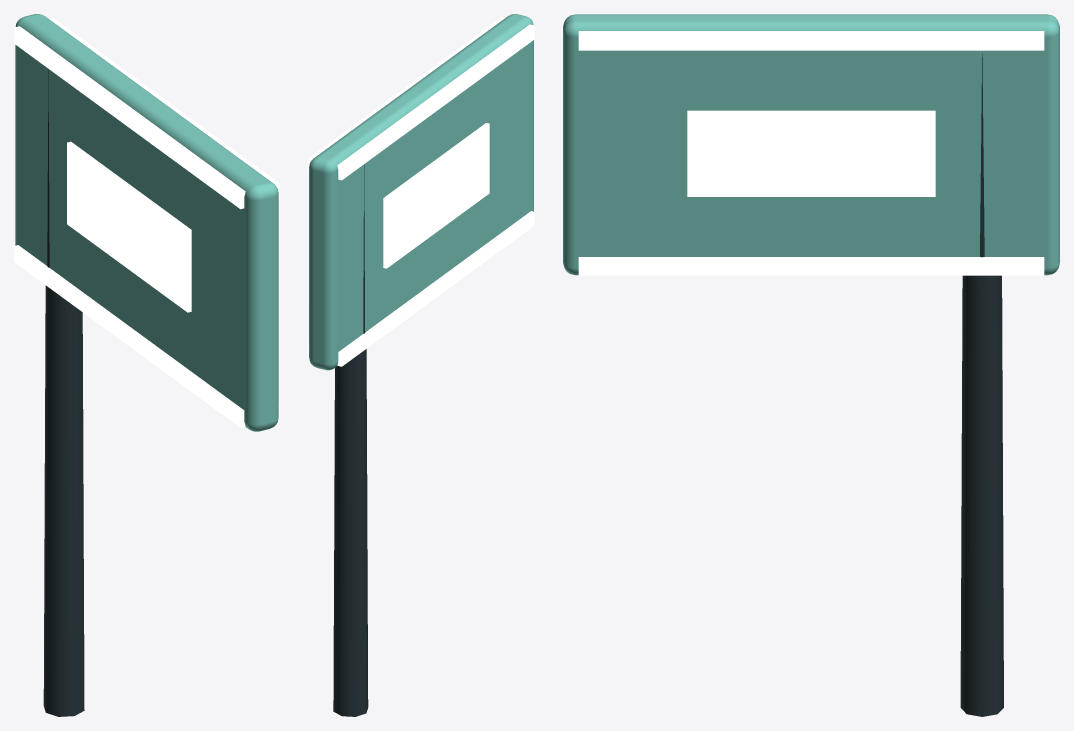
Rendered from shop-sign.glb.
The picture shows the model from 3 angles, left to right: view 1: azimuth 30°, elevation 25°; view 2: azimuth 150°, elevation 25°; view 3: azimuth 270°, elevation 25°; orthographic projection. The views are drawn at different scales.
Parts seen in each view (by area): view 1: board, sign trim, sign pole; view 2: board, sign trim, sign pole; view 3: board, sign trim, sign pole.
Boxes of the visible parts, box(x1,y1,x2,y2) form: board: box(15, 14, 278, 431); sign trim: box(14, 18, 279, 427); sign pole: box(43, 69, 84, 716); board: box(309, 14, 533, 370); sign trim: box(308, 17, 534, 366); sign pole: box(333, 164, 368, 716); board: box(563, 14, 1059, 275); sign trim: box(578, 14, 1044, 275); sign pole: box(960, 53, 1003, 716).
Size of the model in its own units: 0.15 by 2.45 by 1.6.
